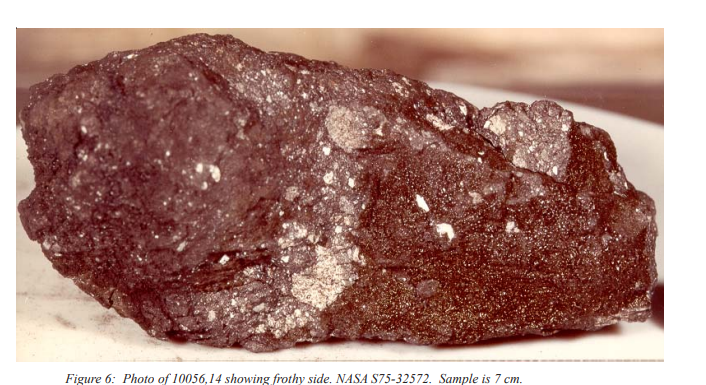Breccia: (16, 31, 661, 352)
